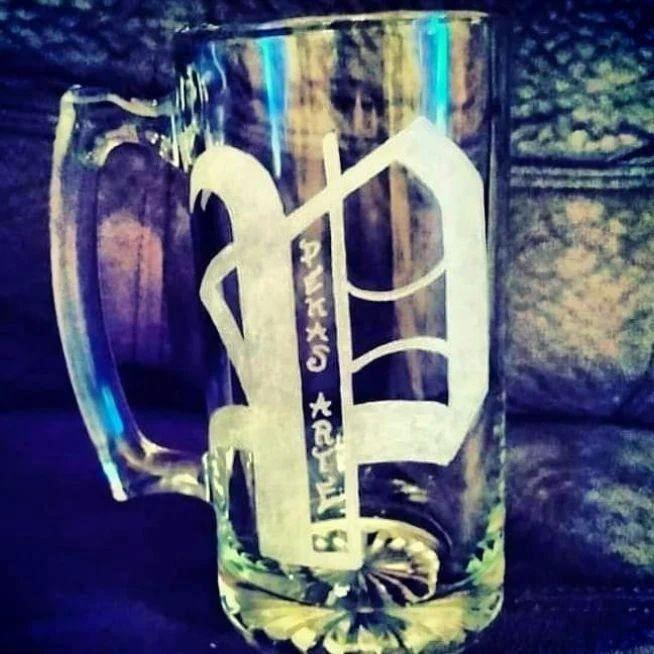glass-mug: (36, 5, 518, 654)
